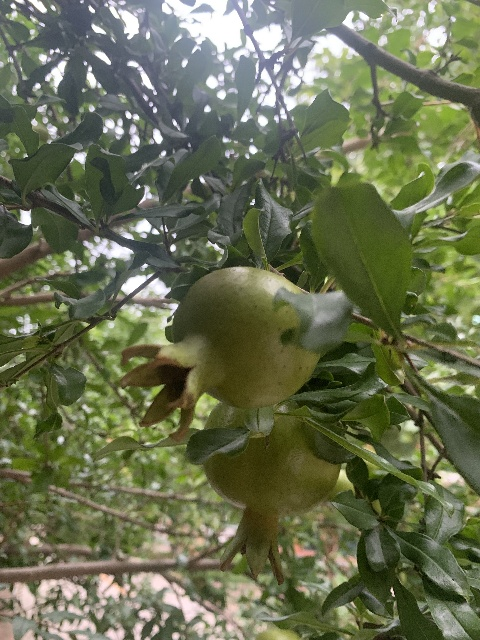mid-growth: (120, 265, 320, 442), (202, 401, 342, 584)
